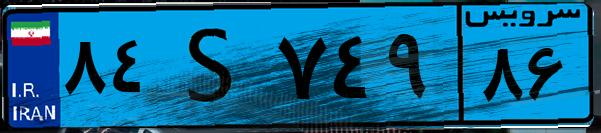4: (330, 28, 385, 110), (110, 28, 158, 98)
6: (525, 38, 570, 115)
7: (270, 28, 330, 110)
8: (57, 26, 110, 100), (475, 38, 525, 113)
9: (385, 28, 445, 110)
S: (158, 12, 270, 120)
